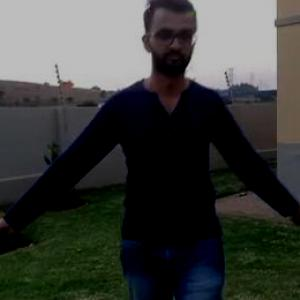land: (1, 10, 299, 299)
